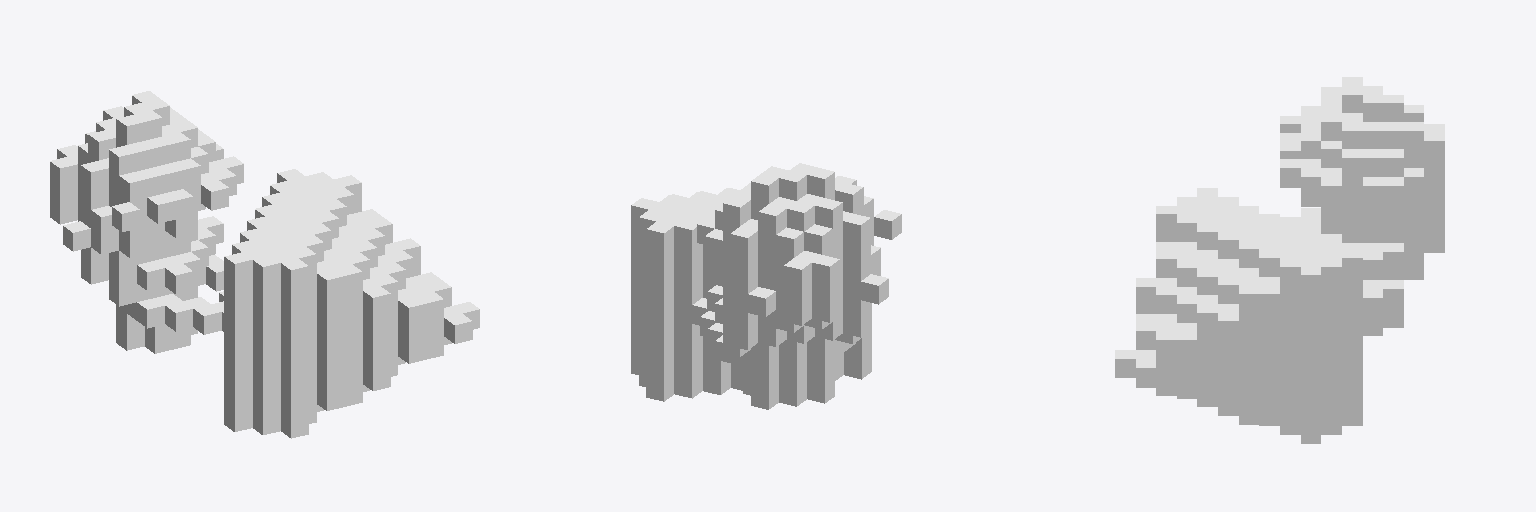
File: attacker6.obj
3 renders of one model, left to right at view 1: azimuth 30°, elevation 25°; view 2: azimuth 150°, elevation 25°; view 3: azimuth 270°, elevation 25°, orthographic.
Visible parts, largest first — view 1: object 1; view 2: object 1; view 3: object 1.
Boxes of the visible parts, <box> form: object 1: <box>50,91,479,438</box>; object 1: <box>631,163,901,409</box>; object 1: <box>1115,77,1444,443</box>.
Bounding box in the file's own units: 1.7 × 1.4 × 1.6.